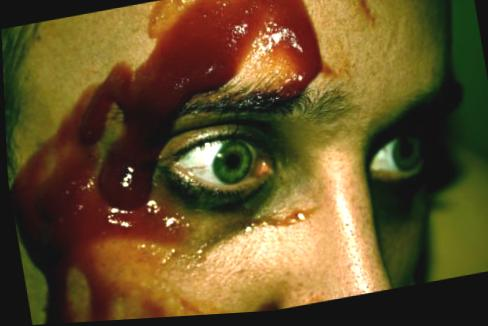Fire: (9, 0, 320, 325), (213, 214, 310, 251), (146, 0, 199, 39), (174, 301, 225, 318), (233, 301, 276, 316)
